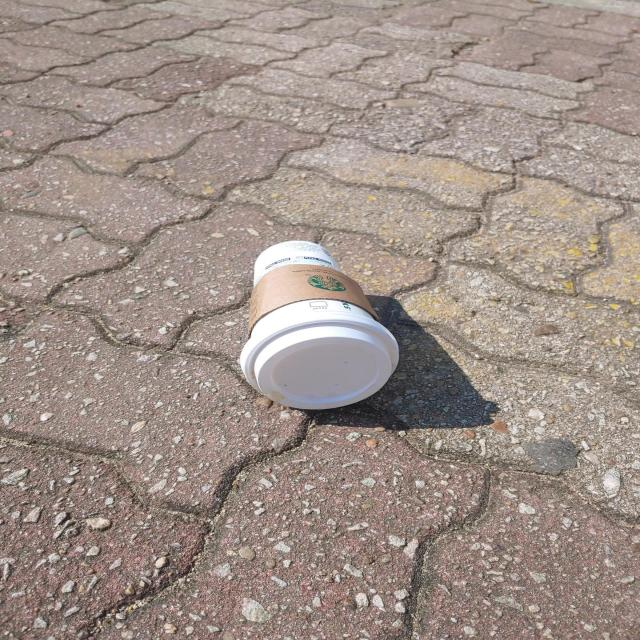paperpack: (239, 241, 399, 410)
